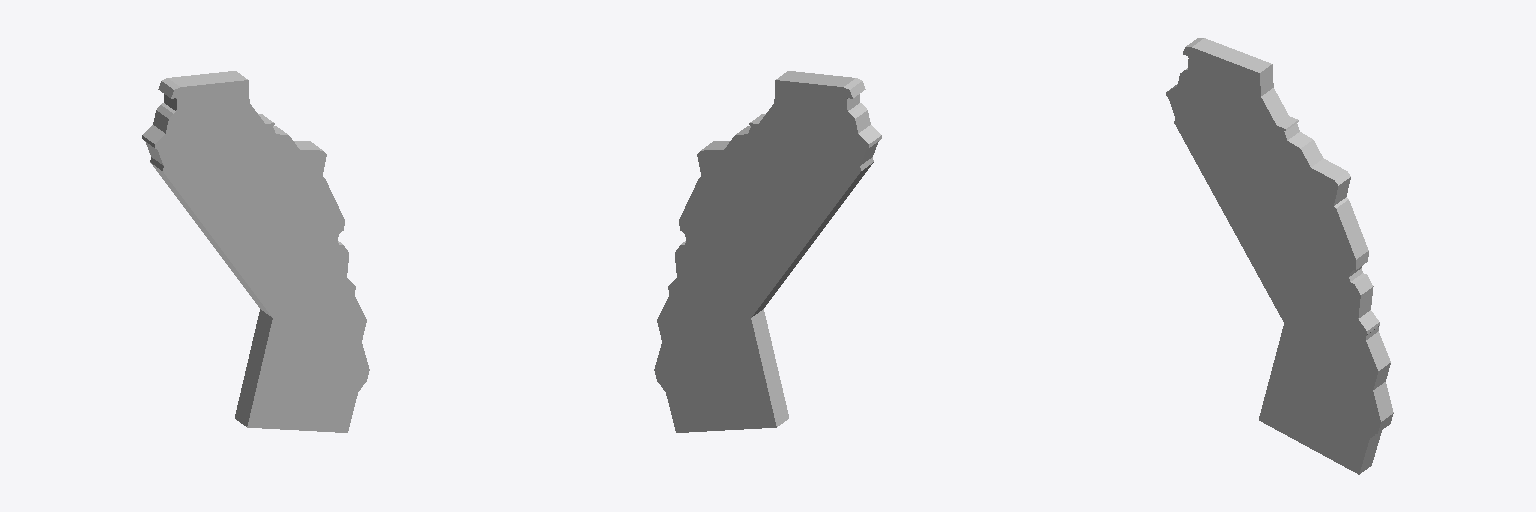
File: california2.obj
The picture shows the model from 3 angles: view 1: azimuth 30°, elevation 25°; view 2: azimuth 150°, elevation 25°; view 3: azimuth 330°, elevation 25°; orthographic projection.
Parts seen in each view (by area): view 1: Spline_Object; view 2: Spline_Object; view 3: Spline_Object.
Part boxes in pixels (x1,y1,x2,y2): Spline_Object: (142,71,369,432); Spline_Object: (654,71,881,432); Spline_Object: (1166,38,1393,474).
Size of the model in its own units: 56.65 by 97.37 by 5.79.